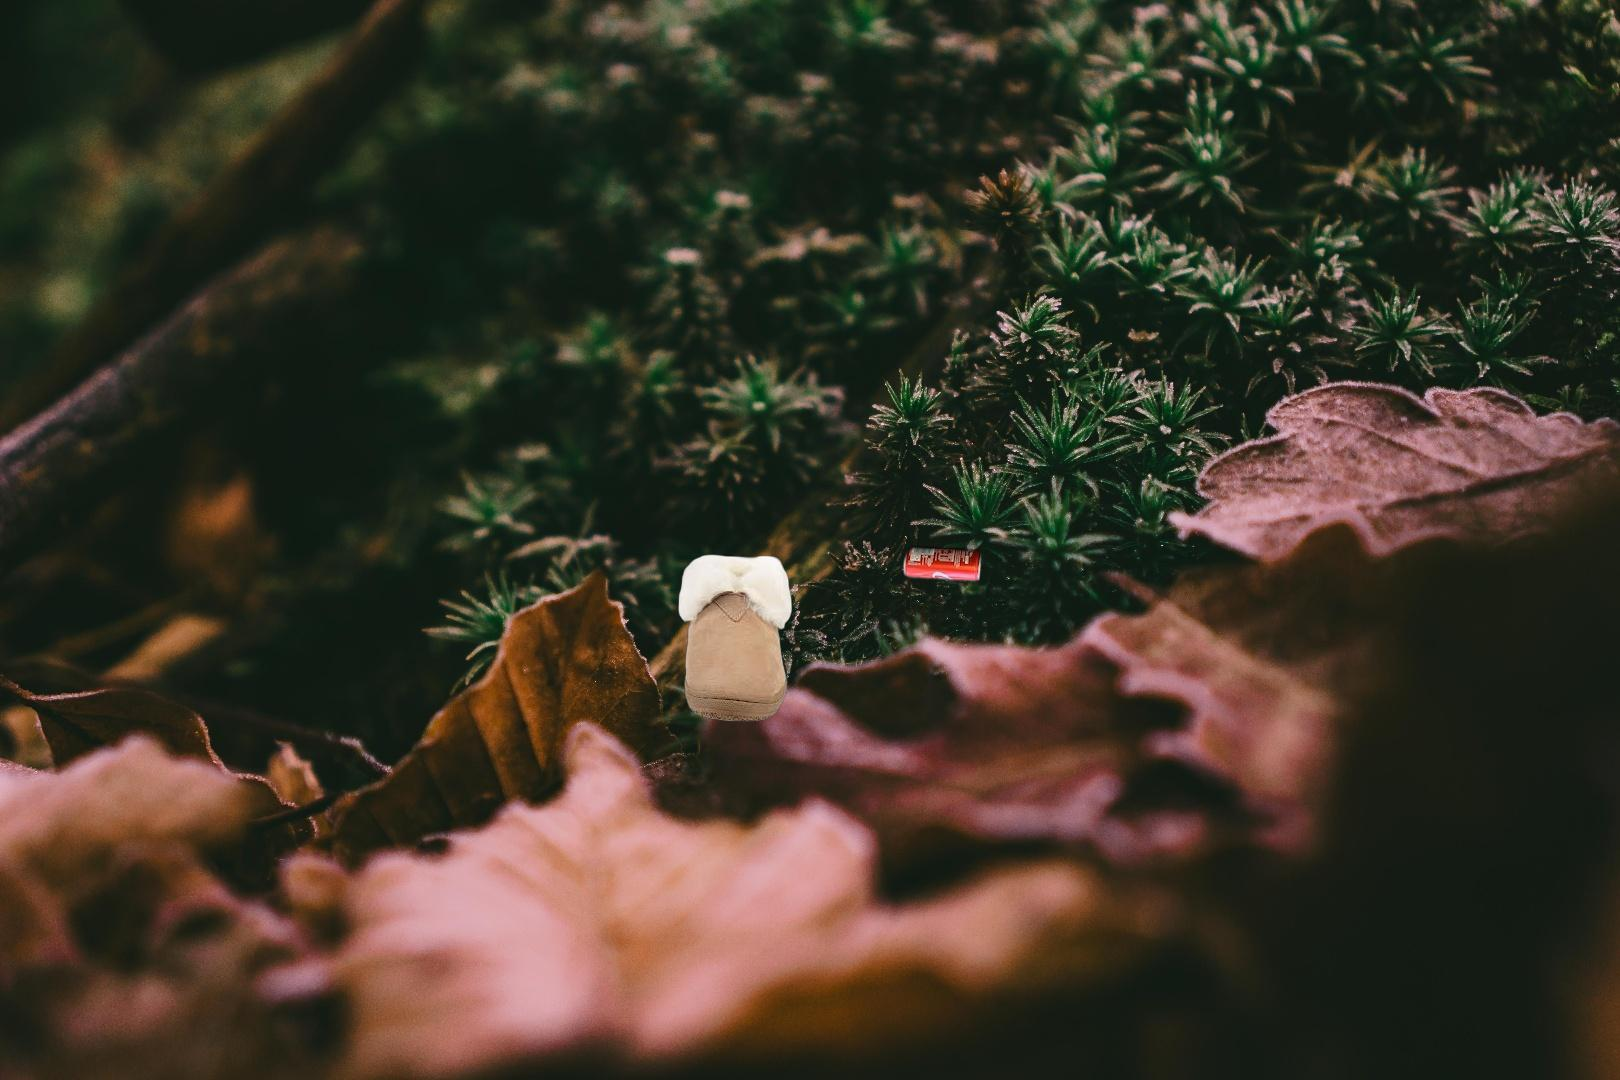metal-cans: (898, 540, 985, 587)
shoes: (675, 552, 796, 724)
